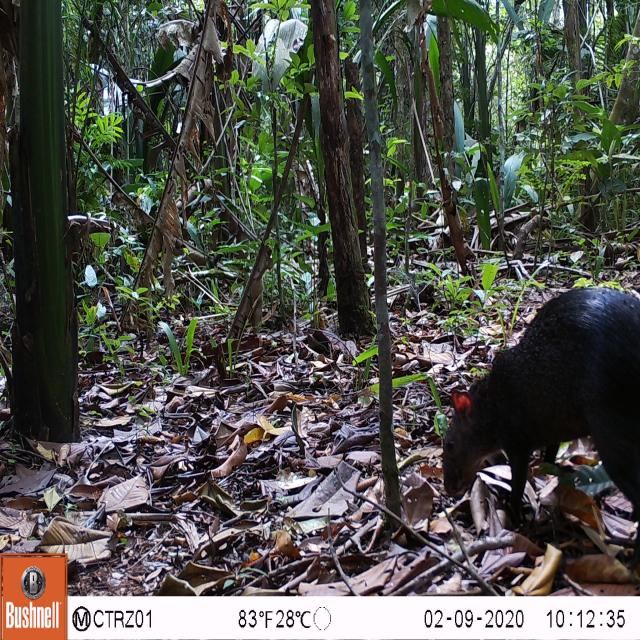Black Agouti: (430, 271, 640, 575)
